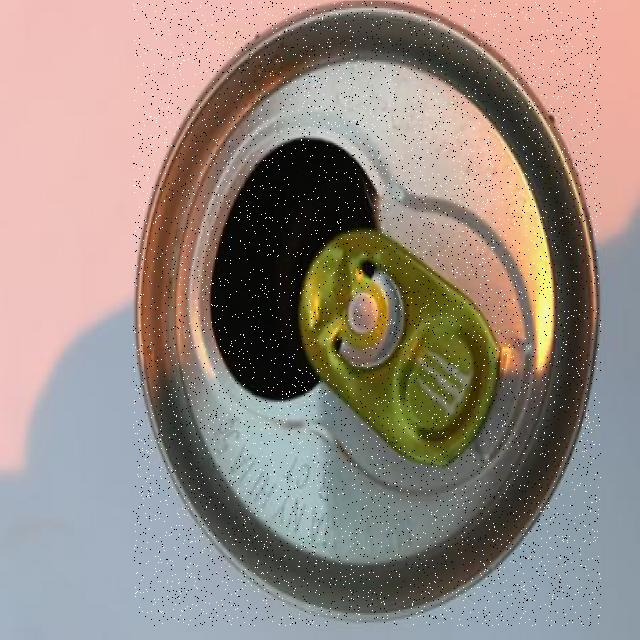metal: (133, 2, 601, 626)
